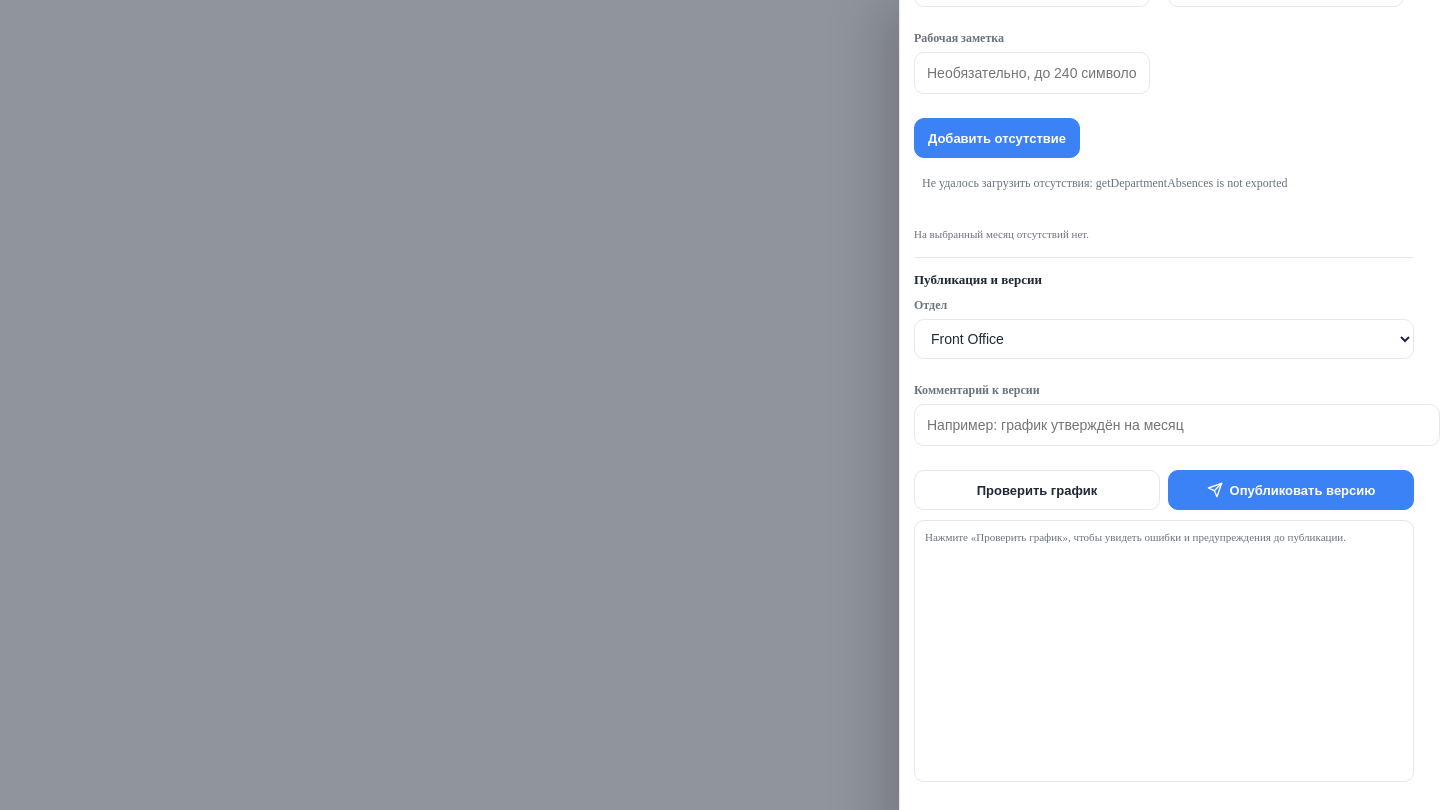
Scenario: schedule publication controls › loads history and publishes the selected department month
(page scrolled)
Type "Финальный график" into the field labelled "Комментарий к версии" at point(1177, 425), box [914, 404, 1439, 446]
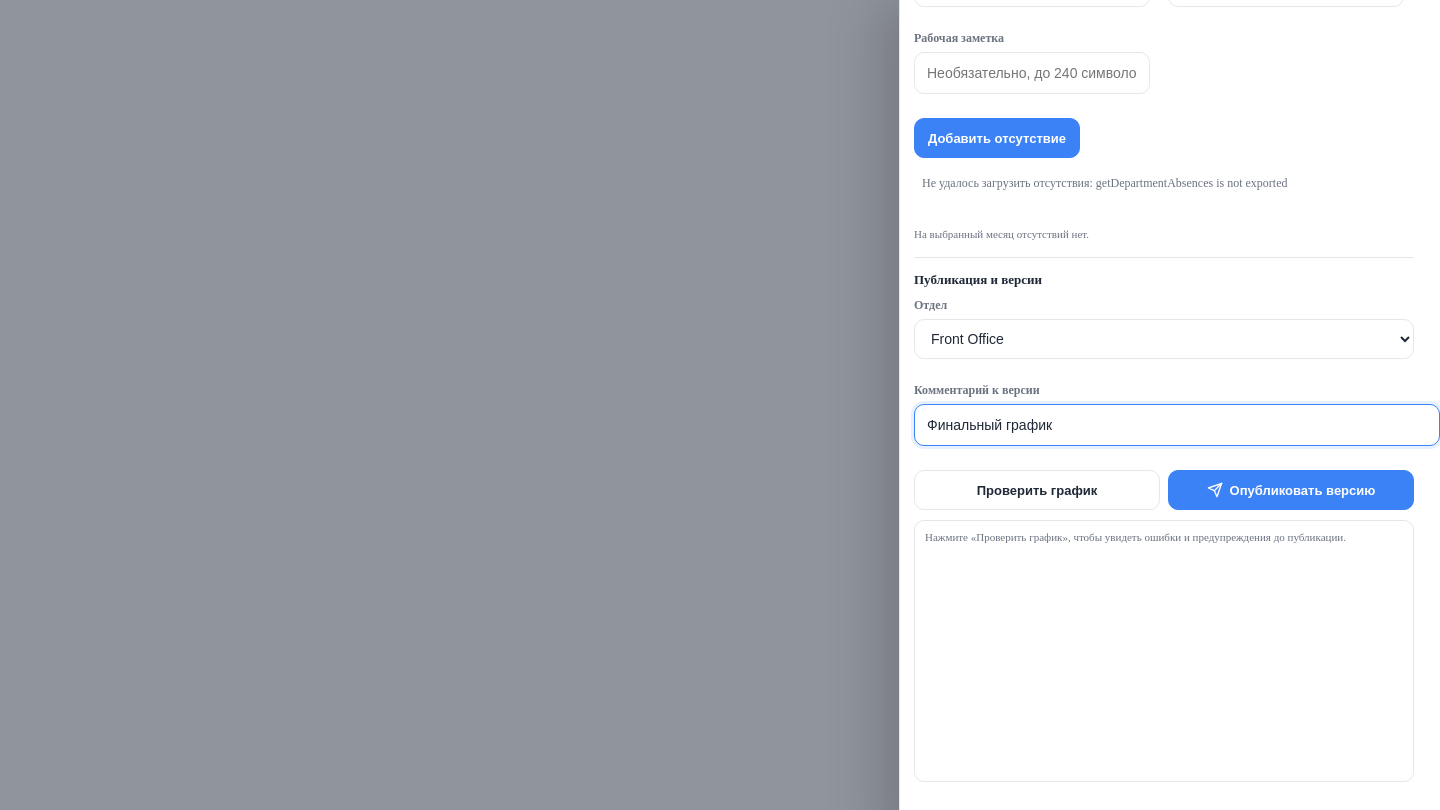
Click the button "Опубликовать версию" at point(1291, 490), box [1168, 470, 1414, 510]
(page scrolled)
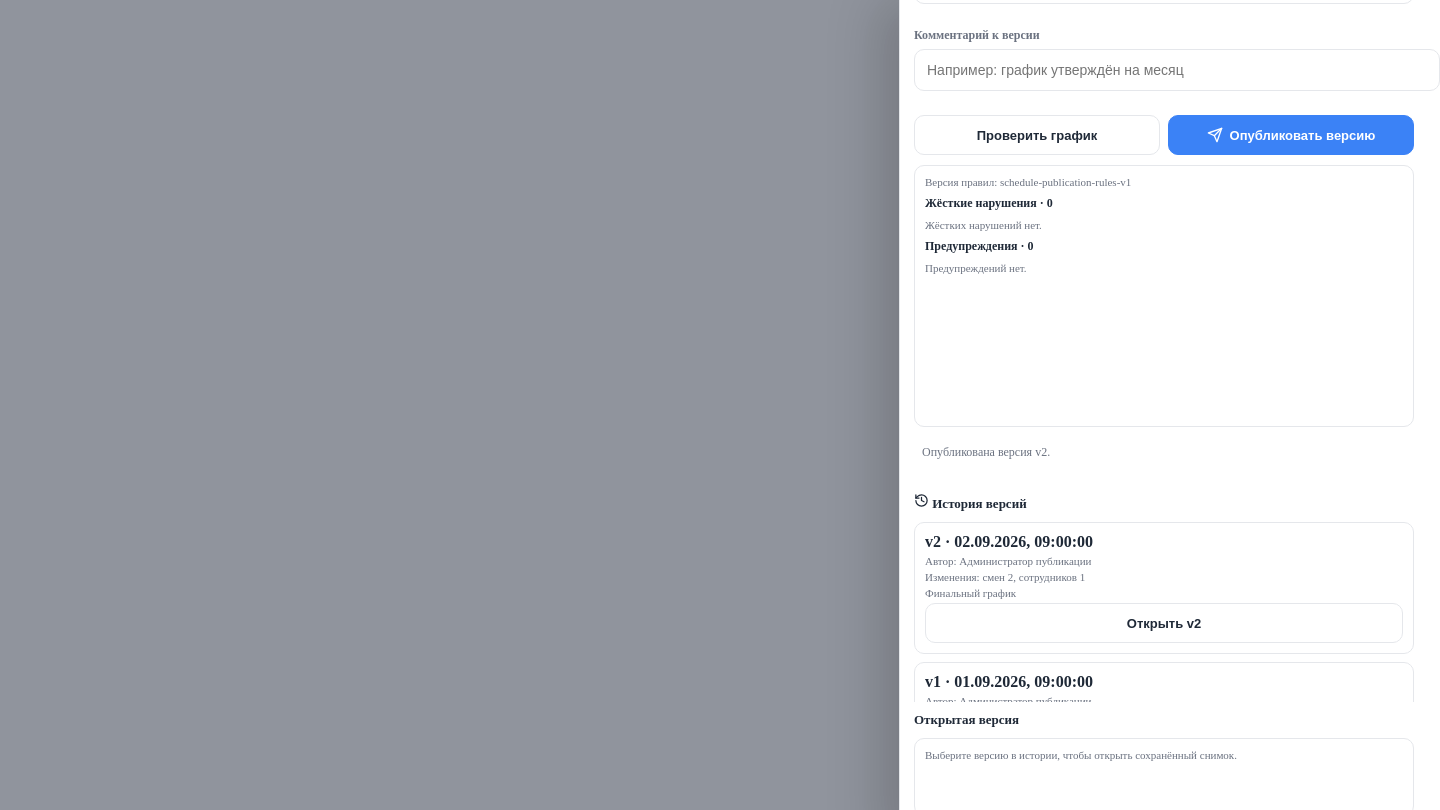
Check: the text "v2 · 02.09.2026, 09:00:00" is shown, box [925, 533, 1093, 550]
Check: the text "Изменения: смен 2, сотрудников 1" is shown, box [925, 571, 1085, 583]
Check: the text "Опубликована версия v2." is shown, box [922, 445, 1050, 459]
